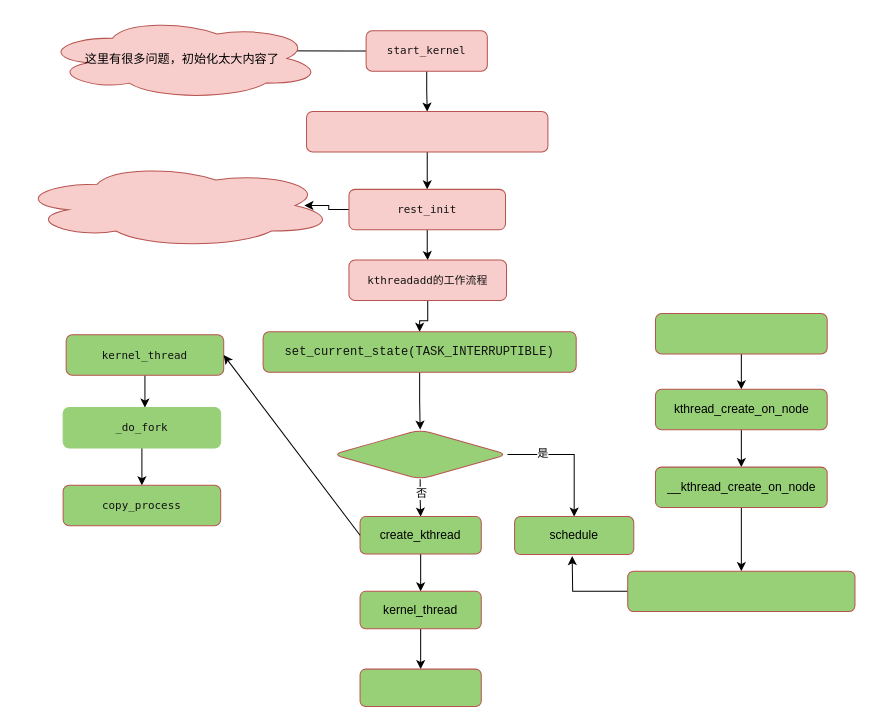
The diagram is 873 pixels wide and 724 high, and some of its shapes have lost their labels. Each missing label, with the centre of its shape:
arch_call_rest_init: [427,131]
kthread: [420,687]
kthread_create: [740,333]
kthread_create_list空: [420,454]
wake_up_process(kthreadd_task): [741,591]
先创建 创建kernel_init，再创建kthreadadd: [176,205]
